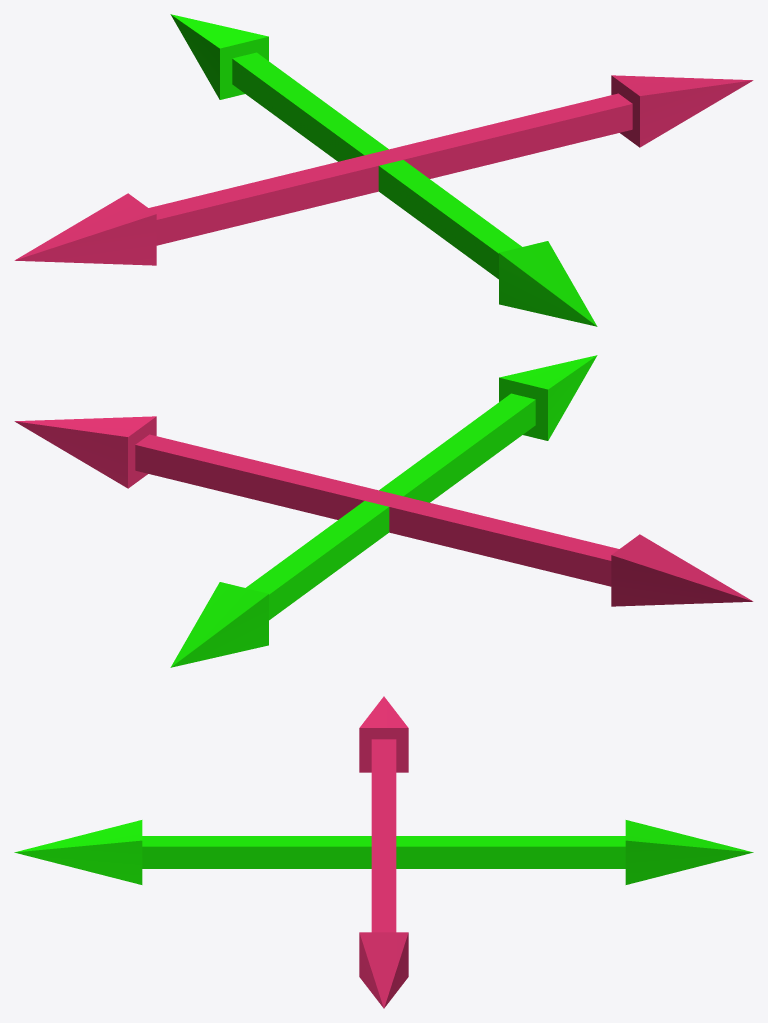
Rendered from axis.glb.
3 renders of one model, top to bottom at view 1: azimuth 30°, elevation 25°; view 2: azimuth 150°, elevation 25°; view 3: azimuth 270°, elevation 25°, orthographic. The views are drawn at different scales.
Visible parts, largest first — view 1: axis; view 2: axis; view 3: axis.
Part boxes in pixels (left/top/right/bottom): axis: left=14, top=14, right=753, bottom=326; axis: left=14, top=355, right=753, bottom=667; axis: left=14, top=696, right=753, bottom=1008.
Size of the model in its own units: 1.8 by 0.12 by 1.8.
1 material, 1 textured.
